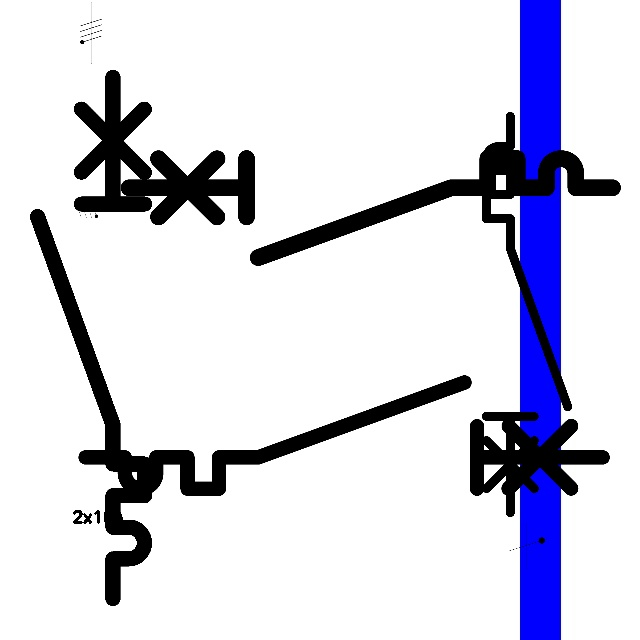interruptor_termomagnetico: (24, 64, 158, 612), (72, 369, 616, 502), (116, 146, 625, 270), (476, 106, 578, 522)
